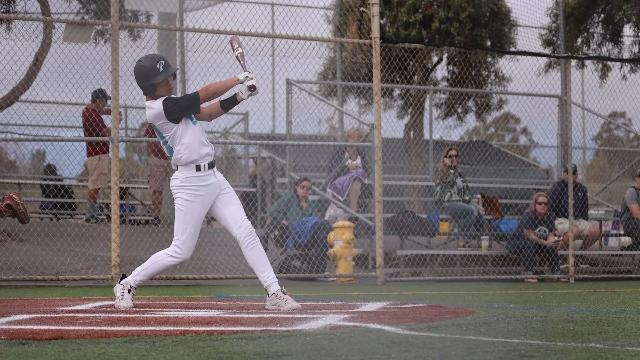baseball bat: (229, 36, 249, 72)
